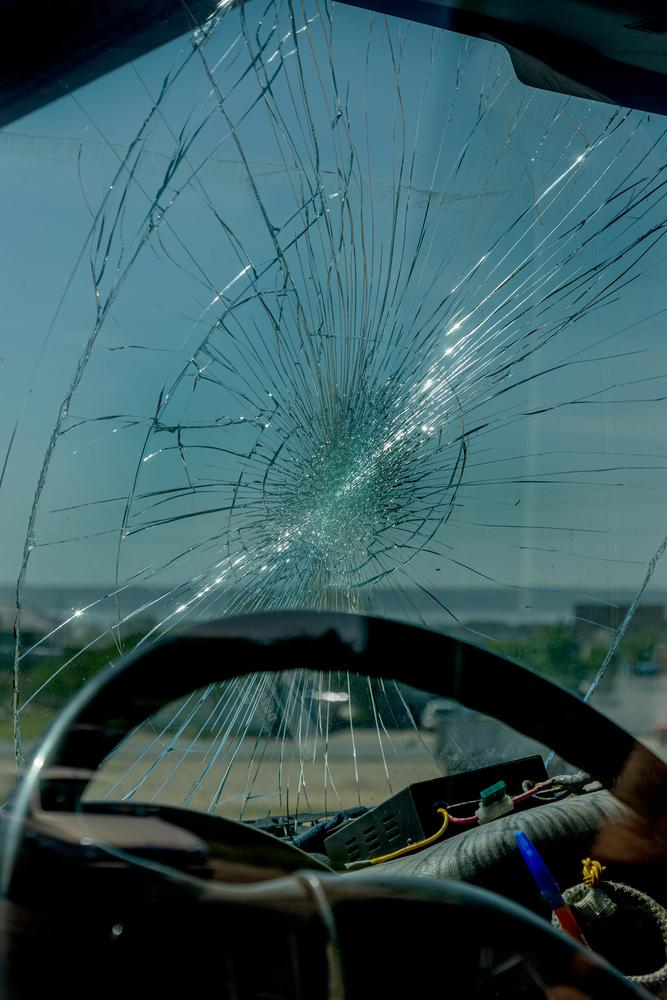glass shatter: (0, 0, 667, 822)
